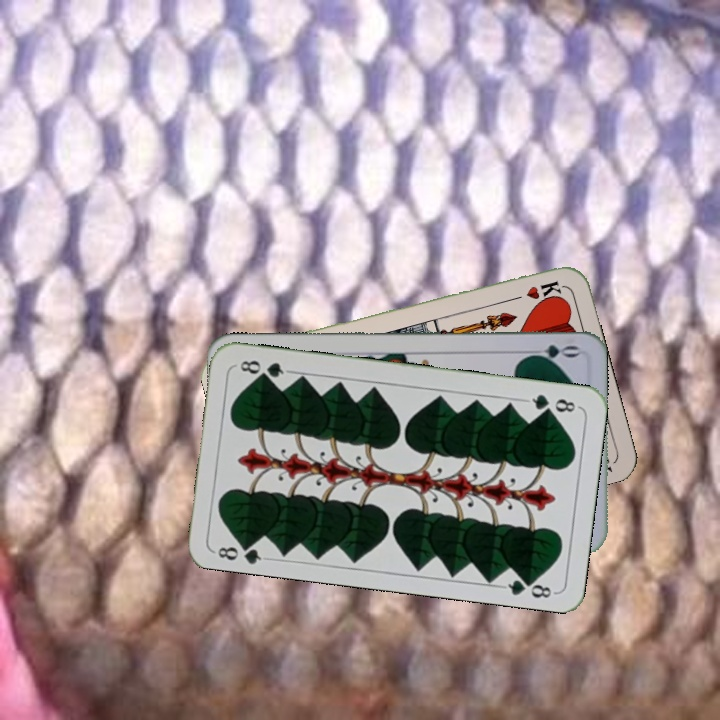G8: (211, 536, 270, 566), (522, 390, 581, 416)
GO: (521, 341, 580, 362)
HK: (505, 277, 565, 304)
